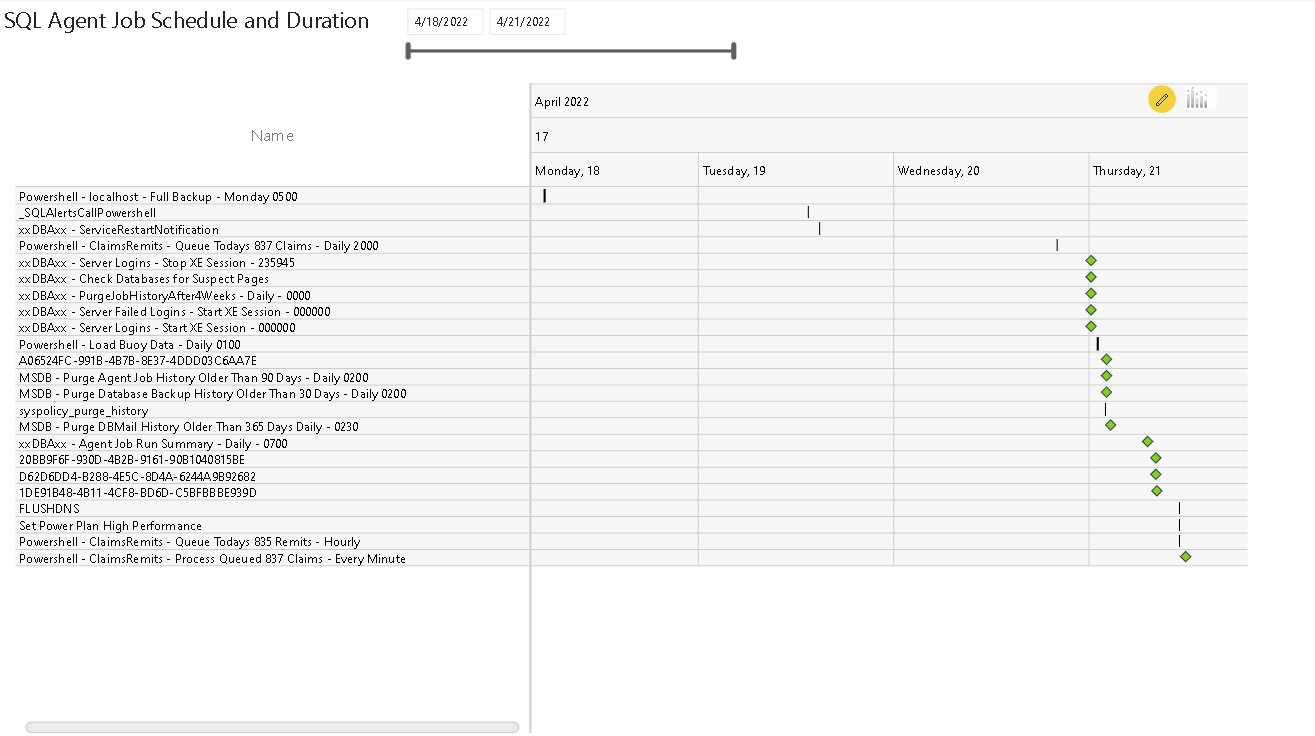

This screenshot's page, from the dashboard's own definition file:
{"tool":"powerbi","page":{"name":"LocalHost","canvas":[1280,720],"ordinal":0},"visuals":[{"type":"GanttChart4C3653EFFFEB4E7DA5A699CE198391E2","title":"Job Name - Duration","fields":{"actualStart":["Query1.LastRunDateTime"],"actualEnd":["Query1.EndDateTime"],"Task":["Query1.JobName"]},"box":[10.7,77.8,1209,641.9],"z":0},{"type":"slicer","fields":{"Values":["C0SQLMON.LastRunDateTime"]},"box":[384.2,0,345.3,71],"z":1000},{"type":"textbox","box":[0,0,384.2,42.8],"z":2000}]}

Visuals, with their boxes in screenshot pixels (x1, y1, x2, y2), scaled from the page's 1280x720 canvas onto the 1315x736 screenshot:
"Job Name - Duration" GanttChart4C3653EFFFEB4E7DA5A699CE198391E2: bbox=[11, 80, 1253, 735]
slicer - C0SQLMON.LastRunDateTime: bbox=[395, 0, 749, 73]
textbox: bbox=[0, 0, 395, 44]
